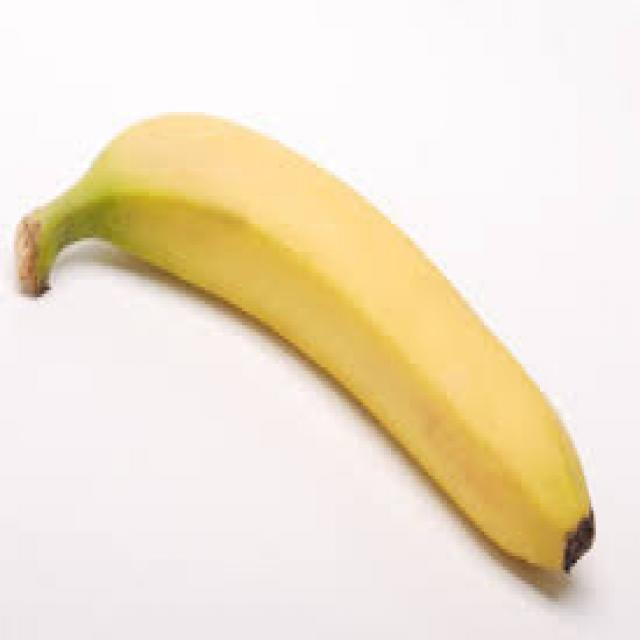banana: (12, 108, 598, 577)
